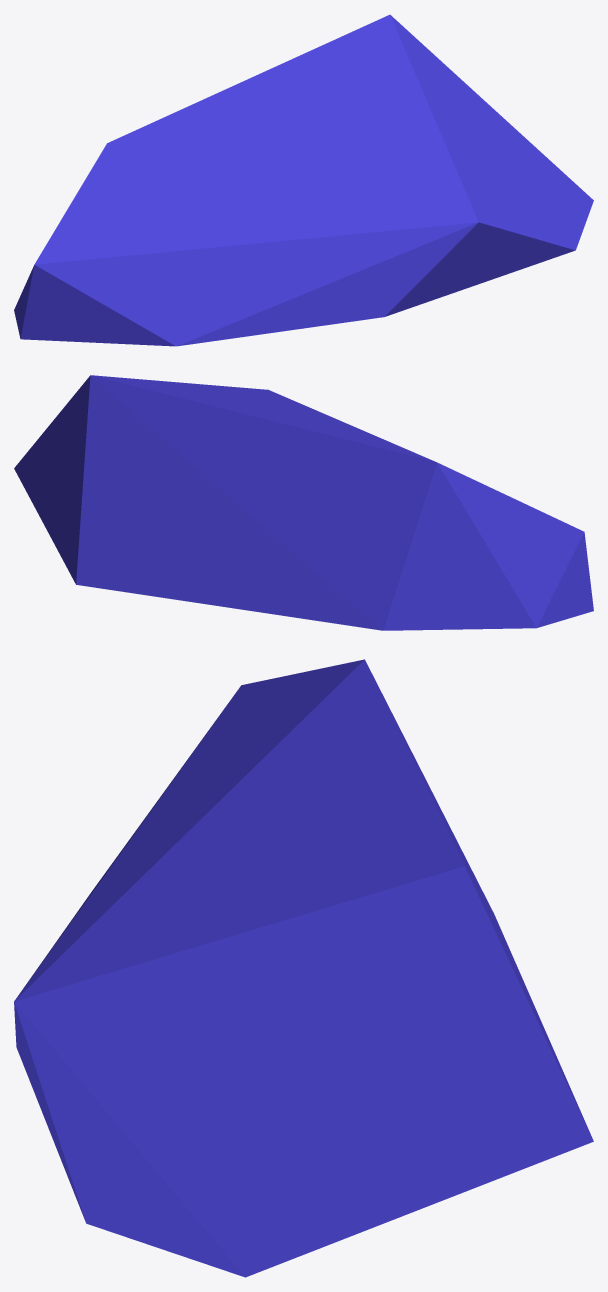
Rendered from Boulder_02_Collider_01.FBX.
3 renders of one model, top to bottom at view 1: azimuth 30°, elevation 25°; view 2: azimuth 150°, elevation 25°; view 3: azimuth 270°, elevation 25°, orthographic. The views are drawn at different scales.
Parts seen in each view (by area): view 1: COLLIDER1; view 2: COLLIDER1; view 3: COLLIDER1.
Boxes of the visible parts, x1=… form: COLLIDER1: x1=14, y1=14, x2=593, y2=346; COLLIDER1: x1=14, y1=375, x2=593, y2=630; COLLIDER1: x1=14, y1=659, x2=593, y2=1277.
Bounding box in the file's own units: 113 × 32.69 × 58.21.
